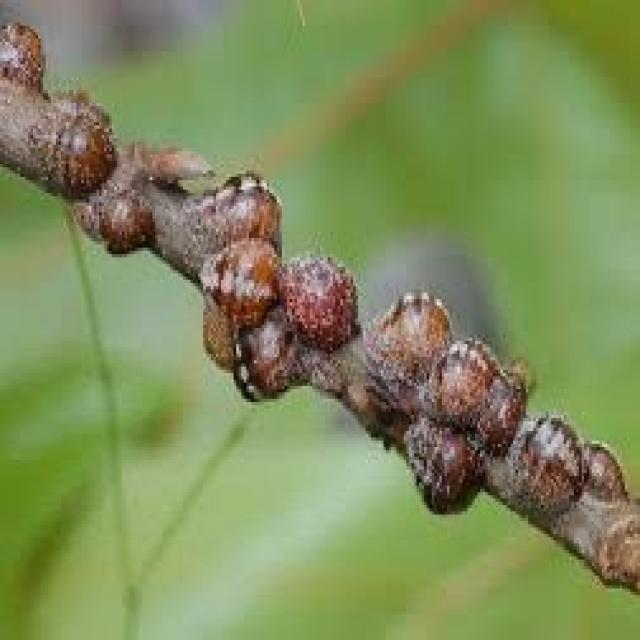BlackScale: (363, 292, 538, 520), (198, 174, 358, 408), (510, 415, 628, 550), (28, 90, 109, 196), (0, 22, 48, 94), (95, 203, 152, 259)
